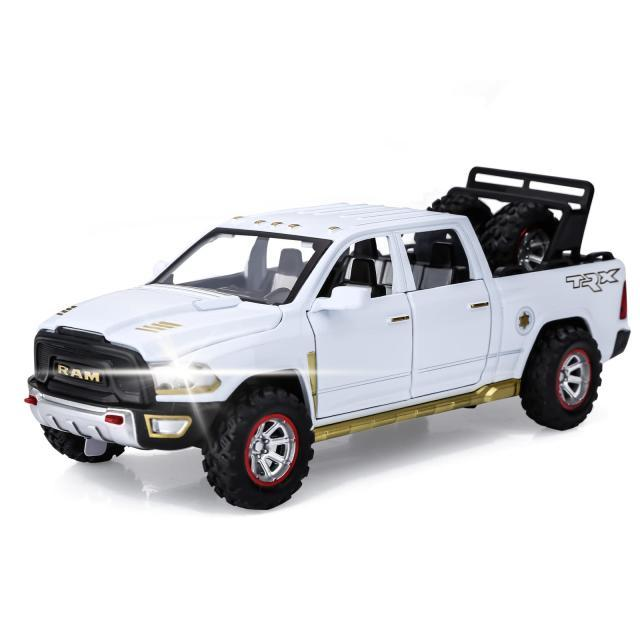person: (24, 165, 631, 510)
